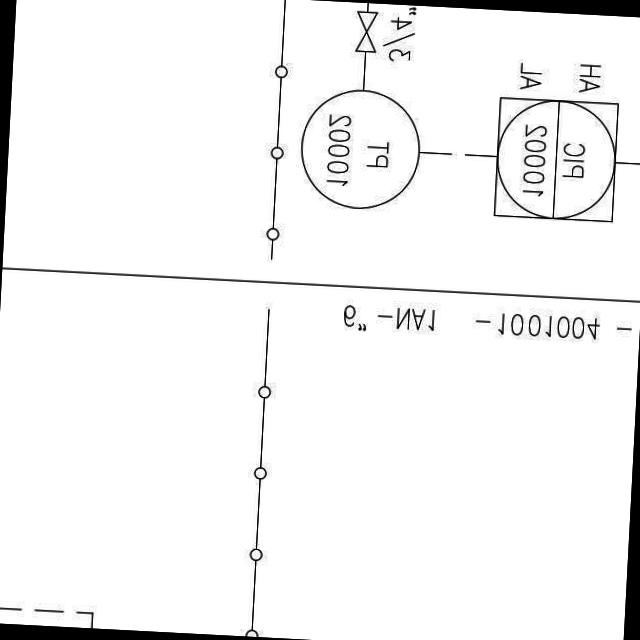GV: (350, 6, 383, 56)
